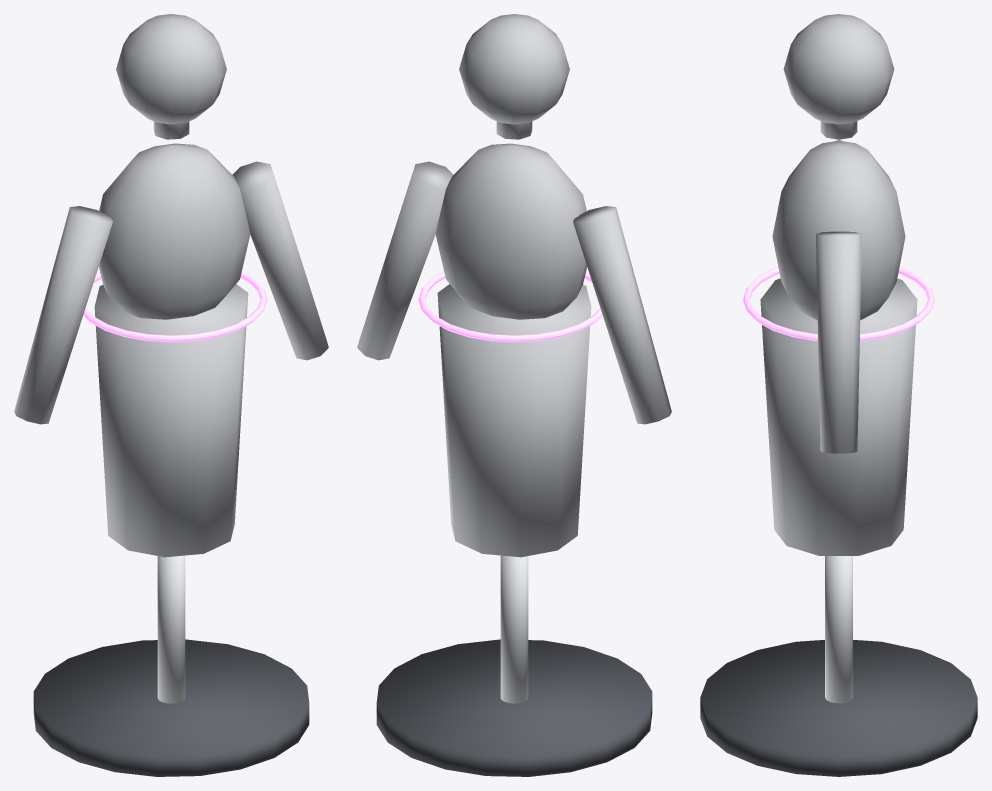
The model's file is android_display_mannequin.glb.
The picture shows the model from 3 angles, left to right: view 1: azimuth 30°, elevation 25°; view 2: azimuth 150°, elevation 25°; view 3: azimuth 270°, elevation 25°; orthographic projection.
Parts seen in each view (by area): view 1: GD_android_display_mannequin__m2, GD_android_display_mannequin__m0, GD_android_display_mannequin__m1, GD_android_display_mannequin__m3; view 2: GD_android_display_mannequin__m2, GD_android_display_mannequin__m0, GD_android_display_mannequin__m1, GD_android_display_mannequin__m3; view 3: GD_android_display_mannequin__m2, GD_android_display_mannequin__m0, GD_android_display_mannequin__m1, GD_android_display_mannequin__m3.
Boxes of the visible parts, box(x1,y1,x2,y2) form: GD_android_display_mannequin__m2: box(14, 14, 328, 557); GD_android_display_mannequin__m0: box(33, 639, 309, 776); GD_android_display_mannequin__m1: box(157, 555, 185, 703); GD_android_display_mannequin__m3: box(83, 271, 267, 342); GD_android_display_mannequin__m2: box(357, 14, 671, 557); GD_android_display_mannequin__m0: box(376, 639, 652, 776); GD_android_display_mannequin__m1: box(500, 555, 528, 703); GD_android_display_mannequin__m3: box(418, 271, 602, 342); GD_android_display_mannequin__m2: box(760, 14, 917, 555); GD_android_display_mannequin__m0: box(700, 640, 977, 776); GD_android_display_mannequin__m1: box(825, 556, 852, 703); GD_android_display_mannequin__m3: box(743, 267, 934, 340).
Bounding box in the file's own units: 0.7759 × 1.67 × 0.6.
